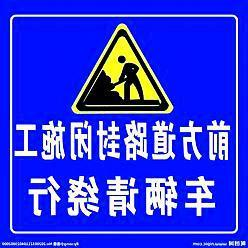sign: (8, 8, 238, 234)
